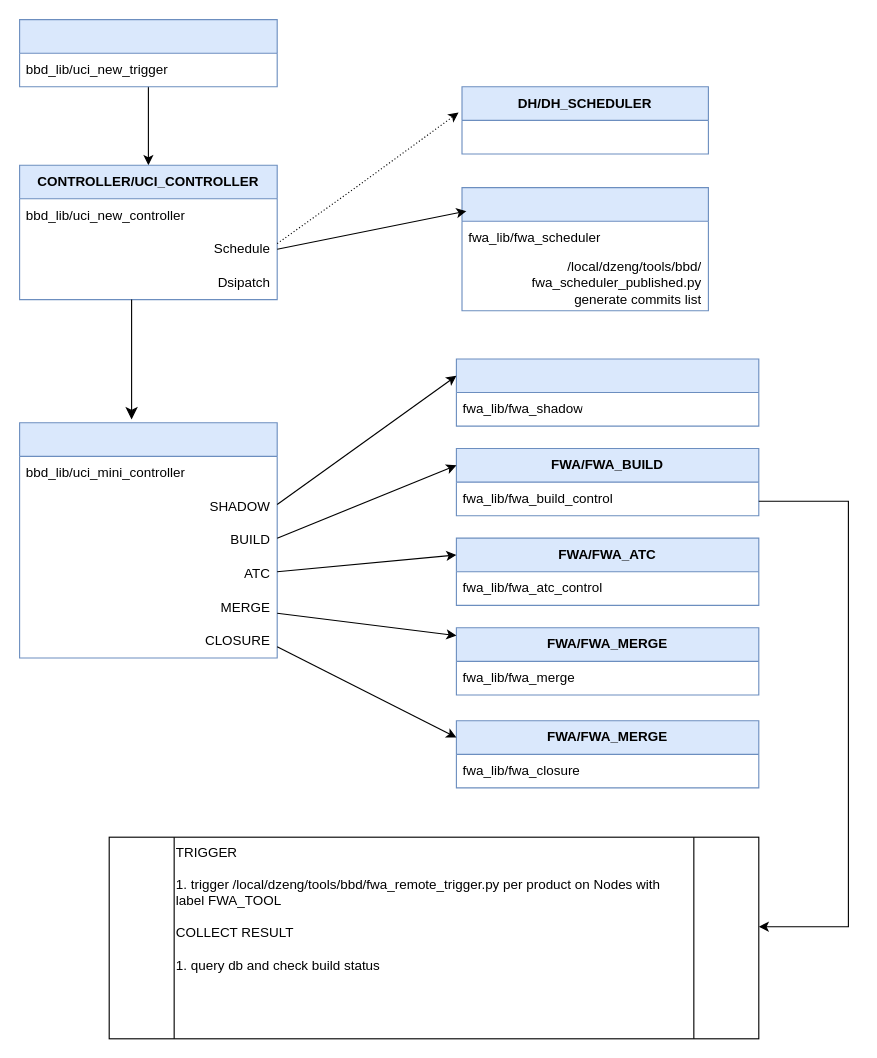
The diagram is 877 pixels wide and 1058 high, and some of its shapes have lost their labels. The box of each missing label's shape, as (x1, y1, x2, y2) in pixels:
CONTROLLER/FWA_NONE_COMMON: (18, 422, 277, 658)
FWA/FWA_SCHEDULER: (461, 186, 708, 311)
FWA/FWA_SHADOW: (455, 358, 759, 426)
General/BBDR2601 trigger: (18, 18, 277, 87)
